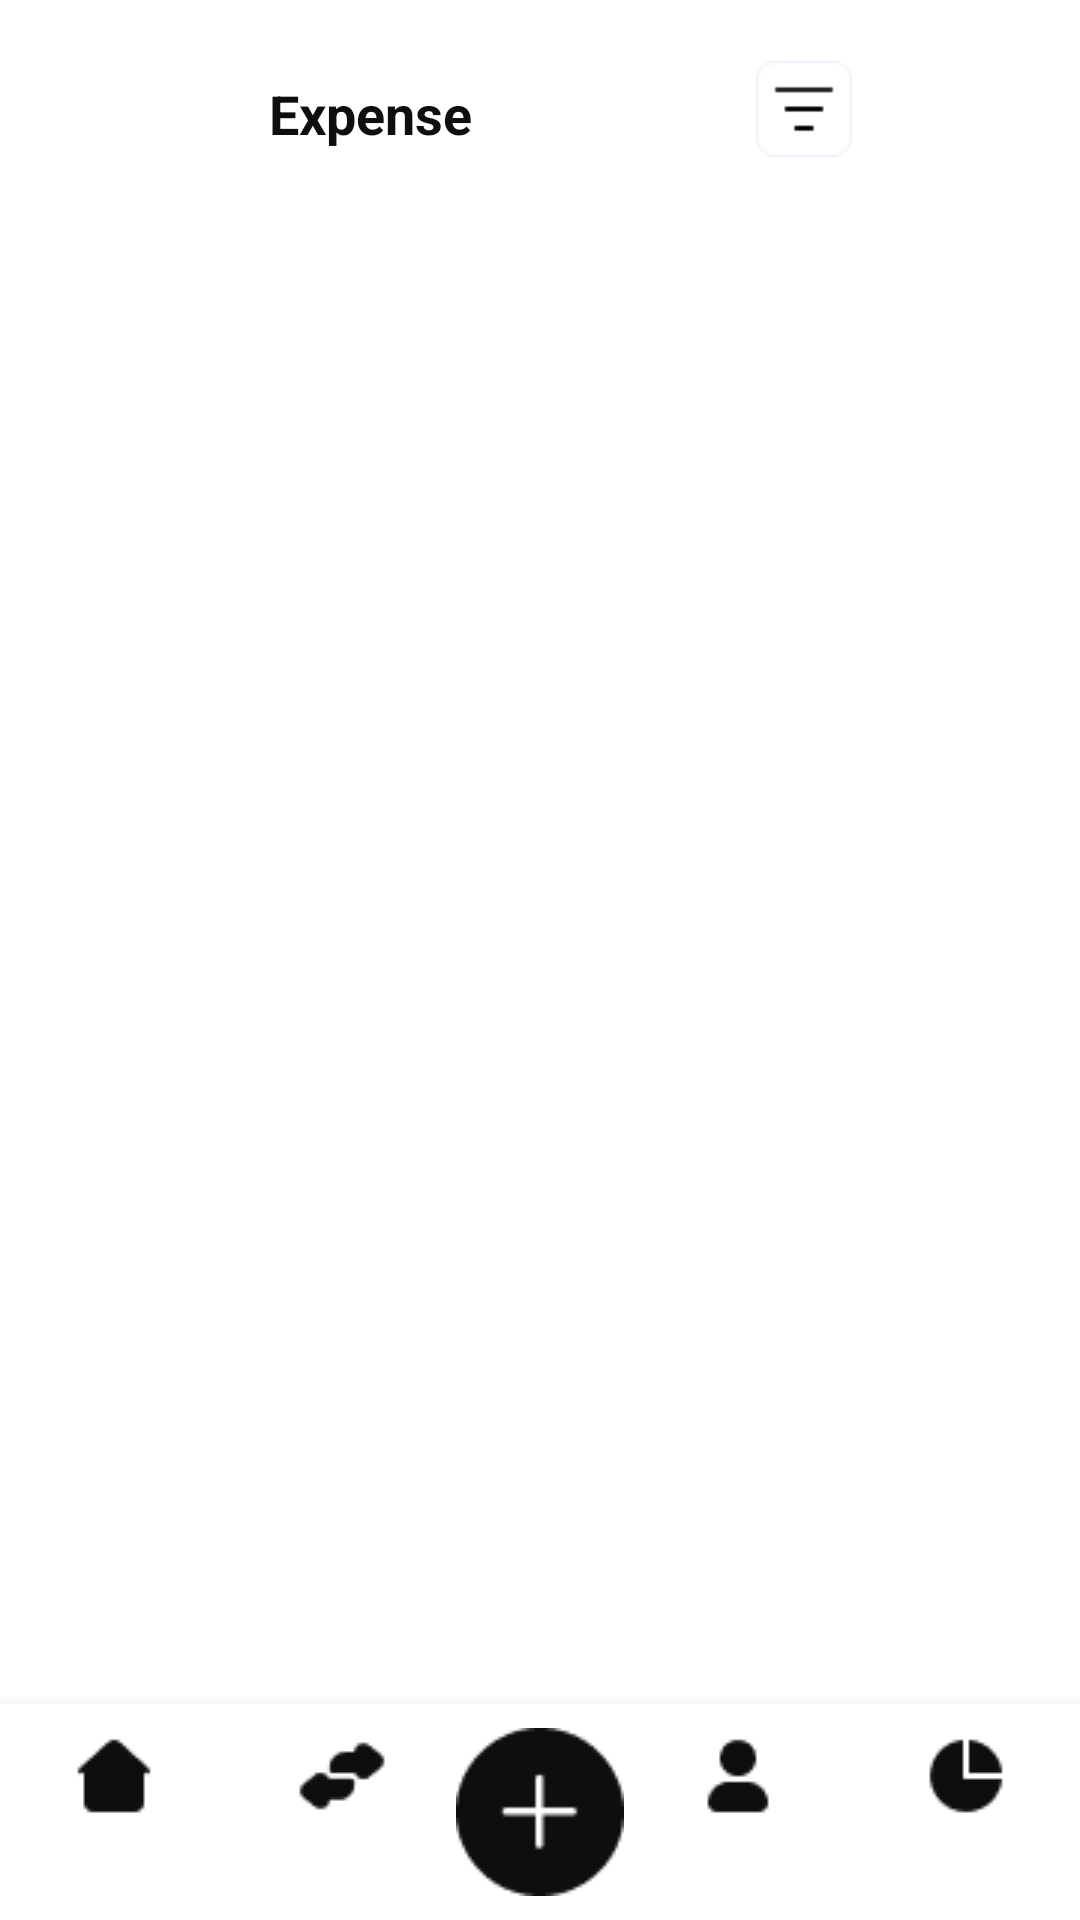

Named icons in this screenshot (1080x1920) and their centers, [x,y]:
Budget: [966,1776]
Create Expense: [540,1812]
filter: [804,109]
Home: [114,1776]
Profile: [738,1776]
Transactions: [342,1776]
